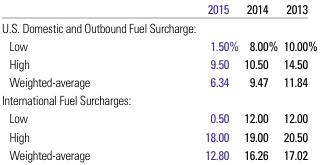table: (0, 0, 316, 161)
table column: (0, 0, 146, 161), (146, 0, 240, 161), (240, 0, 280, 161), (280, 0, 316, 161)
table column header: (0, 0, 316, 18)
table projected row header: (0, 90, 316, 108), (0, 18, 316, 35)
table row: (0, 35, 316, 54), (0, 126, 316, 145), (0, 0, 316, 18), (0, 54, 316, 72), (0, 72, 316, 90), (0, 90, 316, 108), (0, 108, 316, 126), (0, 18, 316, 35), (0, 145, 316, 161)
